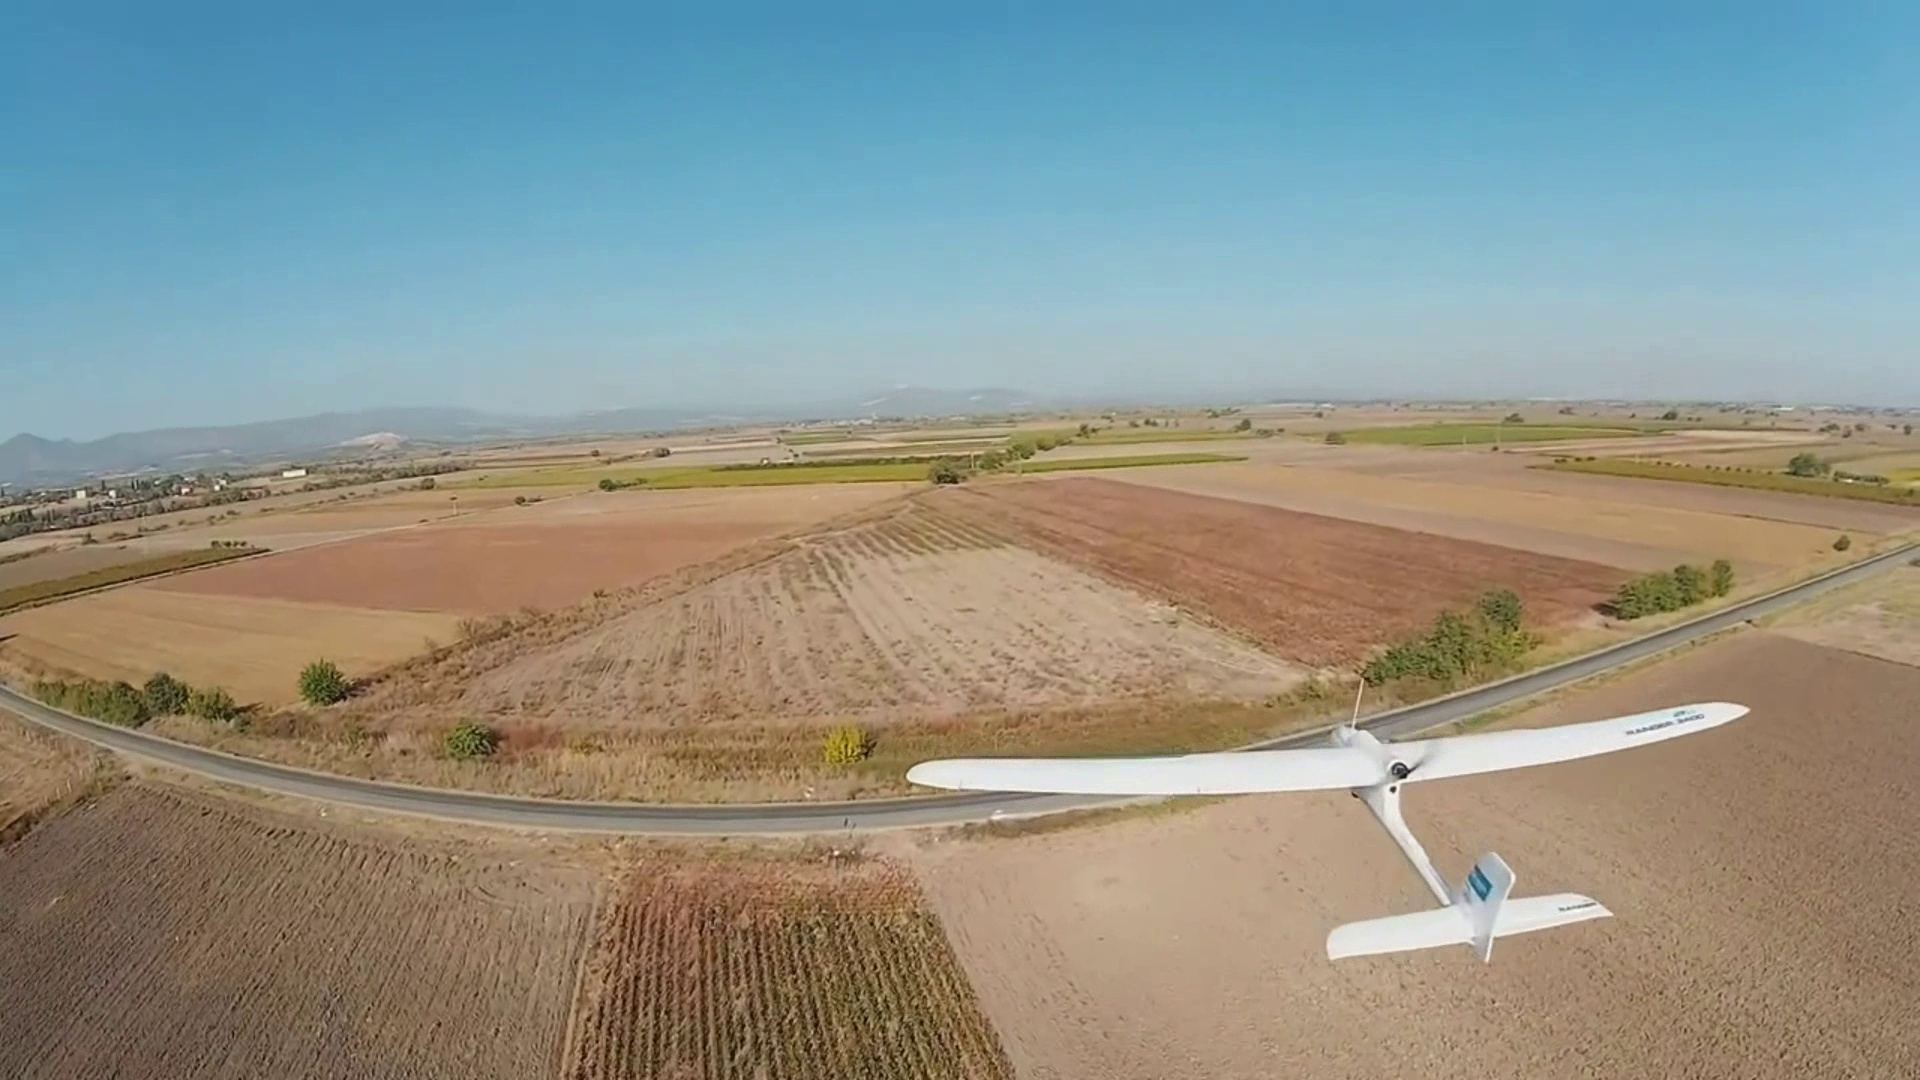airplane: (894, 533, 1896, 963)
